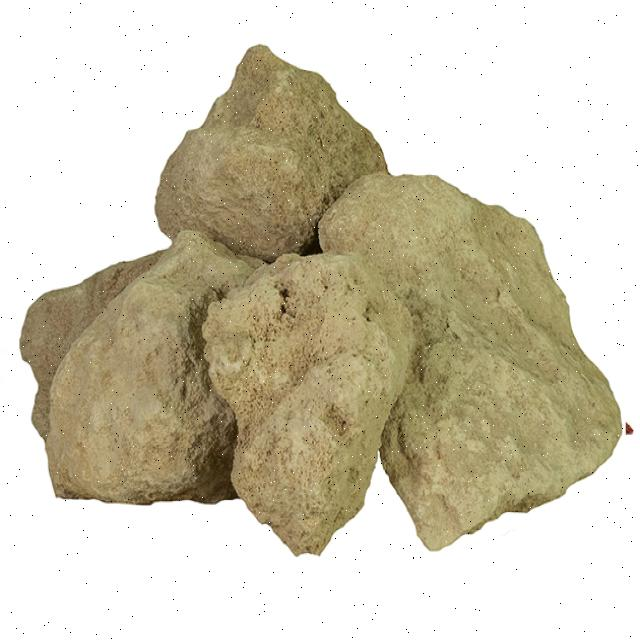Sedimentary: (15, 38, 632, 550)
